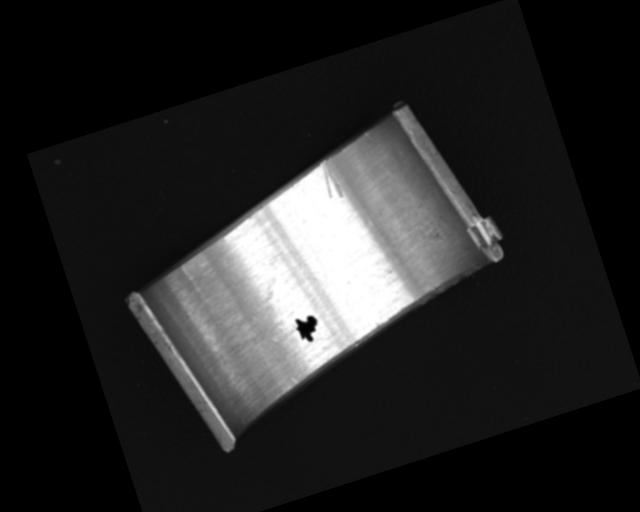blot: (291, 311, 323, 346)
nick: (316, 157, 345, 201), (364, 129, 374, 144)
